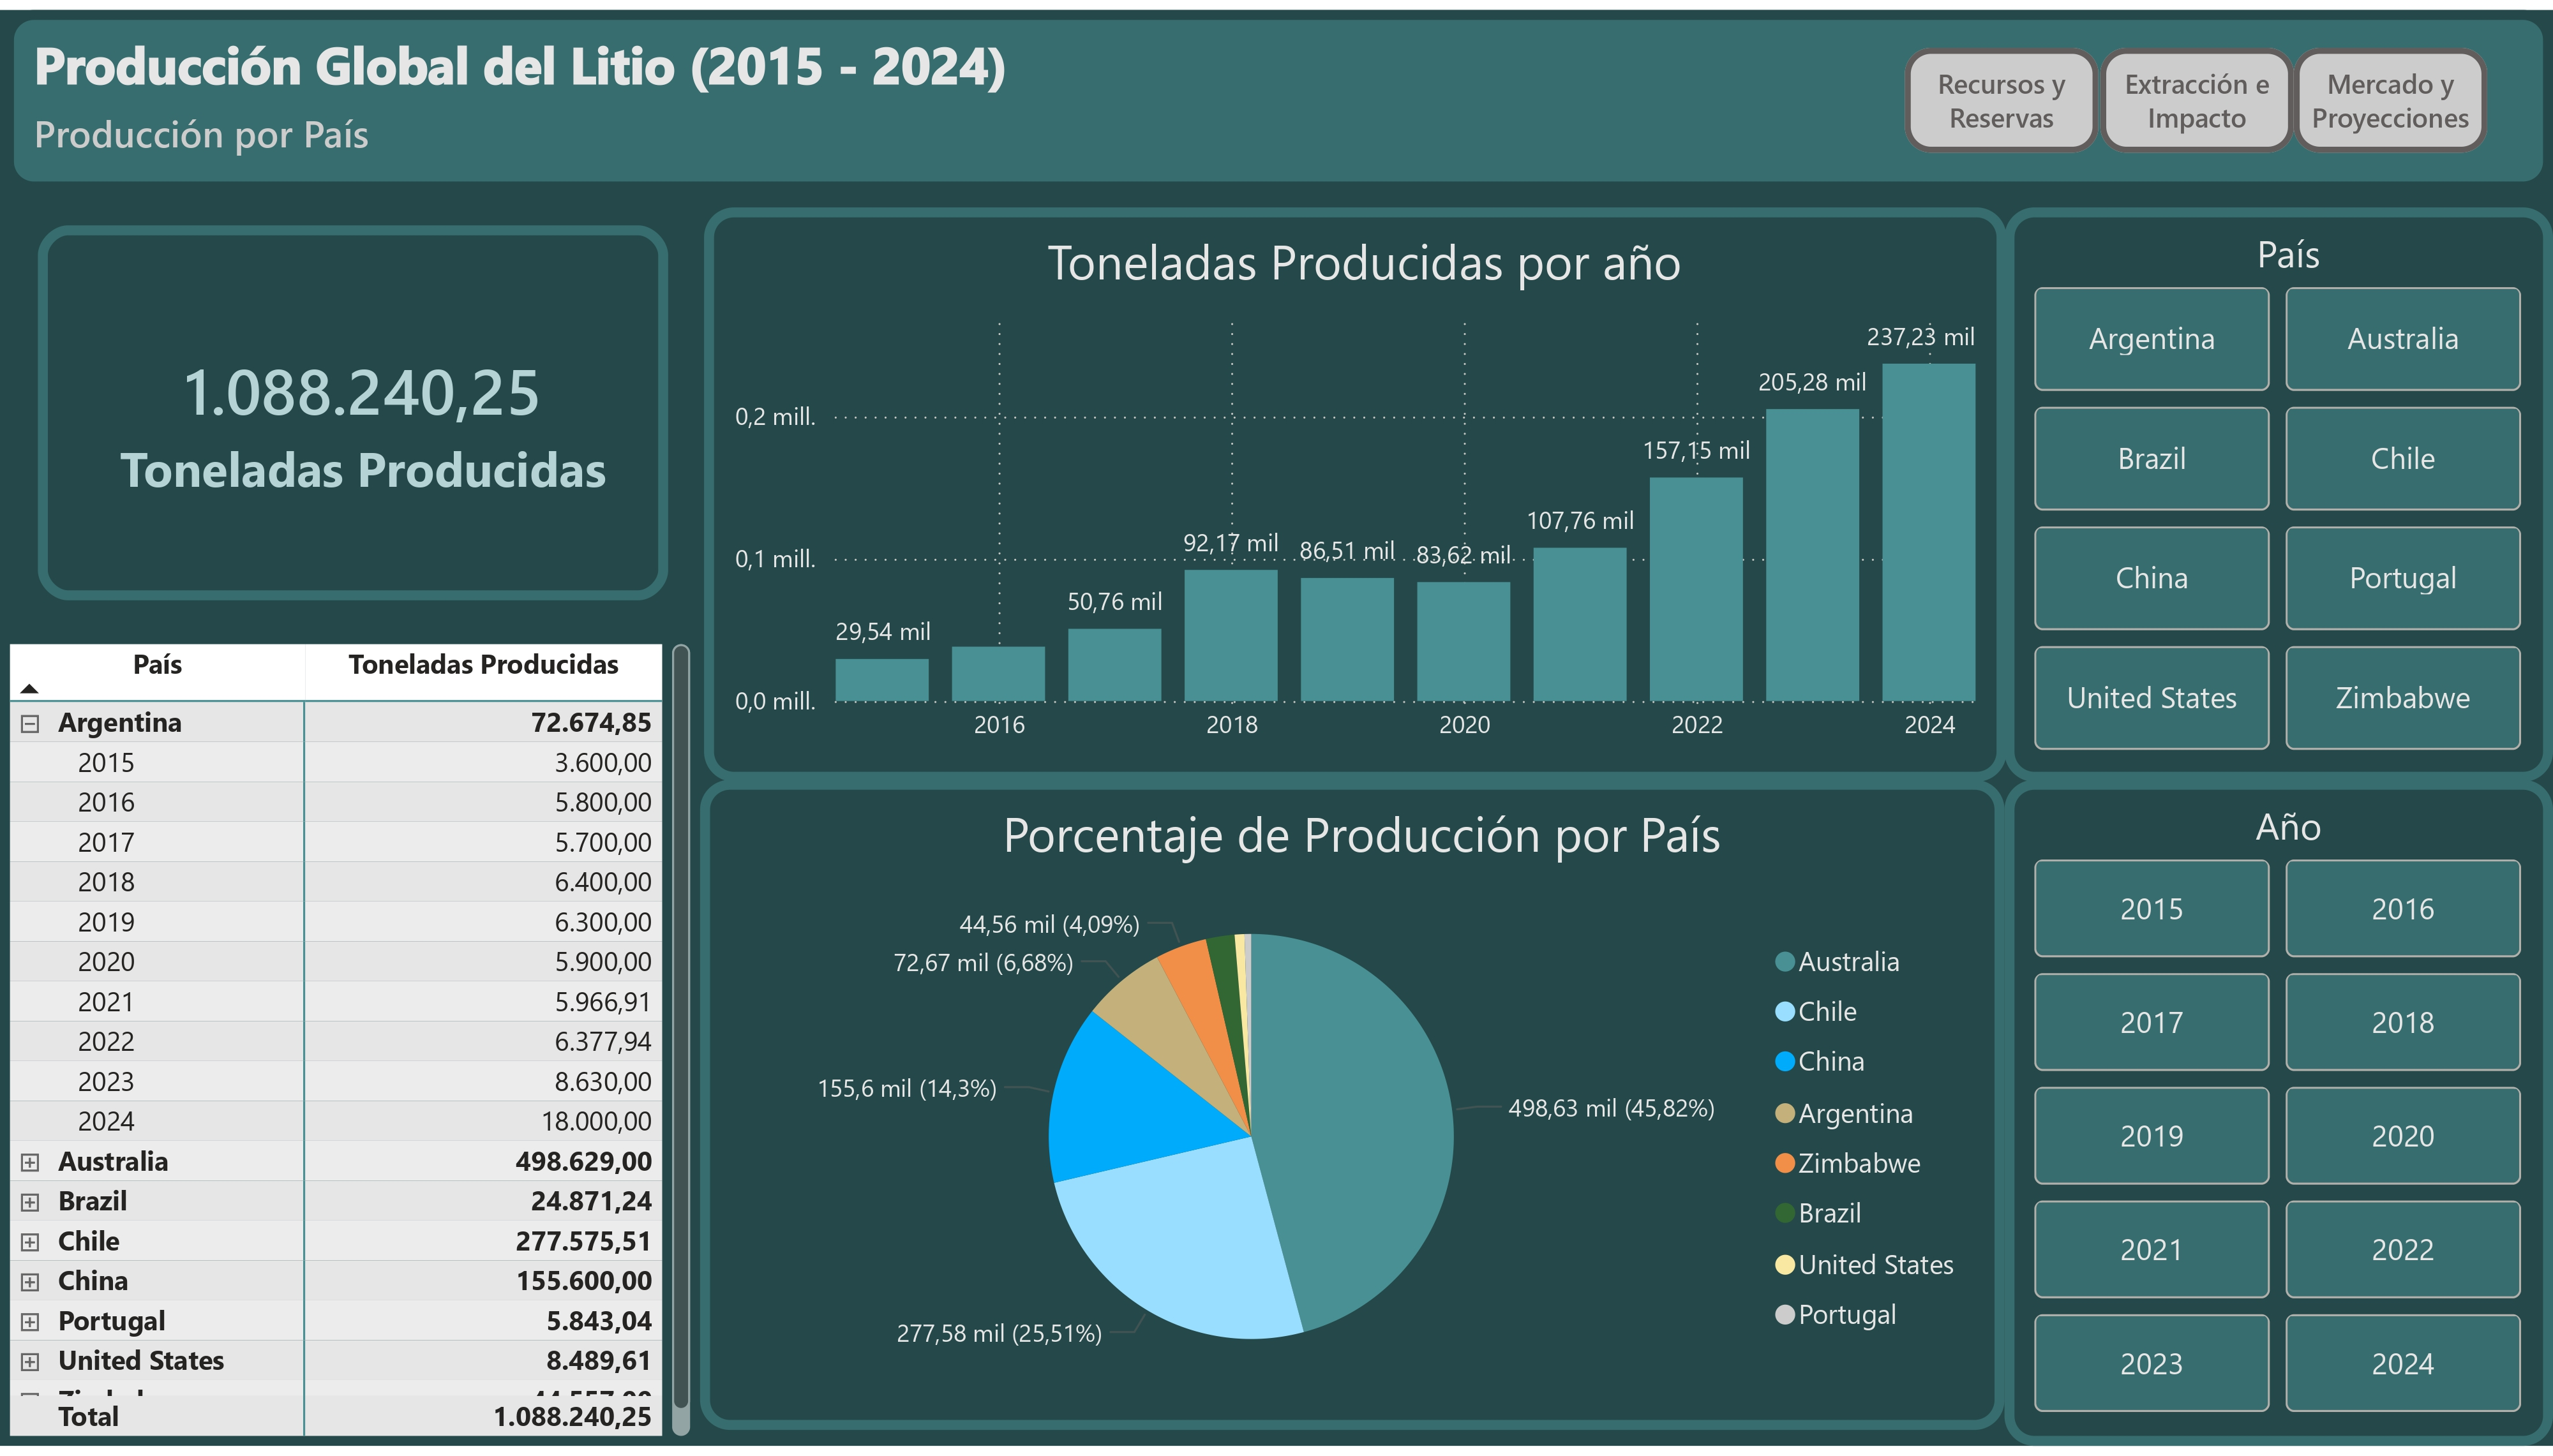

The page's visual inventory and layout, read from the dashboard file:
{"tool":"powerbi","page":{"name":"Producción","canvas":[1280,720],"ordinal":0},"visuals":[{"type":"pivotTable","fields":{"Rows":["fact_produccion.nombre_pais","fact_produccion.anio"],"Values":["Sum(fact_produccion.toneladas_producidas)"]},"box":[0,313.3,351.1,406.7],"z":0},{"type":"advancedSlicerVisual","fields":{"Values":["fact_produccion.anio"]},"box":[1005,386.2,275,333.8],"z":1000},{"type":"cardVisual","fields":{"Data":["Sum(fact_produccion.toneladas_producidas)"]},"box":[2.2,91.1,350,222.2],"z":2000},{"type":"pieChart","title":"Porcentaje de Producción por País","fields":{"Y":["Sum(fact_produccion.toneladas_producidas)"],"Category":["fact_produccion.nombre_pais"]},"box":[350.9,386.3,653.7,325.7],"z":3000},{"type":"advancedSlicerVisual","fields":{"Values":["dim_pais_detalles.nombre_pais"]},"box":[1005,98.8,275,287.5],"z":4000},{"type":"clusteredColumnChart","title":"Toneladas Producidas por año","fields":{"Category":["fact_produccion.anio"],"Y":["Sum(fact_produccion.toneladas_producidas)"]},"box":[352.5,98.8,652.5,287.5],"z":5000},{"type":"textbox","title":"Producción Global del Litio (2015 - 2024)","box":[2.3,0,1277.7,91.4],"z":6000},{"type":"actionButton","title":"Recursos y Reservas","box":[955.4,19.4,97.1,52.6],"z":7000},{"type":"actionButton","title":"Recursos y Reservas","box":[1052.6,19.4,97.1,52.6],"z":8000},{"type":"actionButton","title":"Recursos y Reservas","box":[1149.7,19.4,97.1,52.6],"z":9000}]}

Visuals, with their boxes in screenshot pixels (x1, y1, x2, y2), scaled from the page's 1280x720 canvas onto the 2553x1456 screenshot:
pivotTable - fact_produccion.nombre_pais x fact_produccion.anio: [0, 634, 700, 1455]
advancedSlicerVisual - fact_produccion.anio: [2005, 781, 2552, 1455]
cardVisual - Sum(fact_produccion.toneladas_producidas): [4, 184, 703, 634]
"Porcentaje de Producción por País" pieChart: [700, 781, 2003, 1440]
advancedSlicerVisual - dim_pais_detalles.nombre_pais: [2005, 200, 2552, 781]
"Toneladas Producidas por año" clusteredColumnChart: [703, 200, 2005, 781]
"Producción Global del Litio (2015 - 2024)" textbox: [4, 0, 2552, 185]
"Recursos y Reservas" actionButton: [1906, 39, 2099, 145]
"Recursos y Reservas" actionButton: [2099, 39, 2293, 145]
"Recursos y Reservas" actionButton: [2293, 39, 2487, 145]
